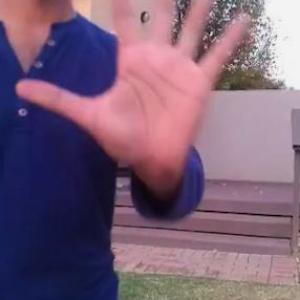follow_hand: (15, 0, 255, 187)
